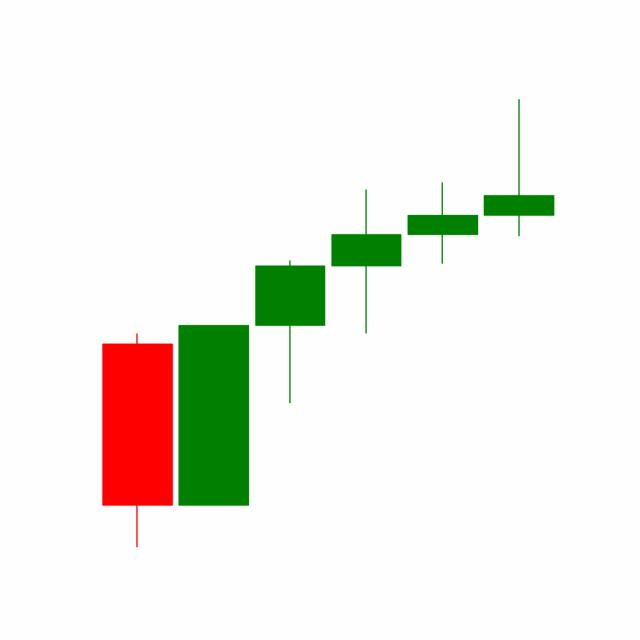Spinning Top: (403, 180, 481, 264)
